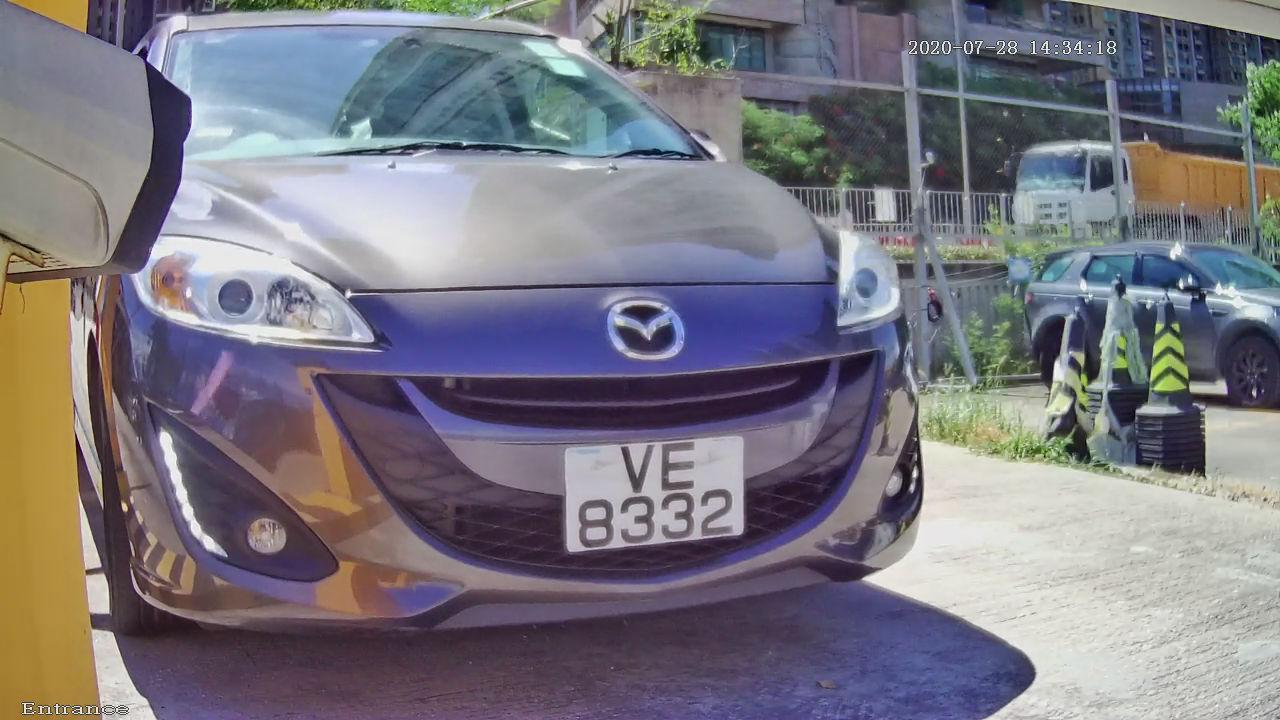privatecar: (52, 7, 1001, 698)
